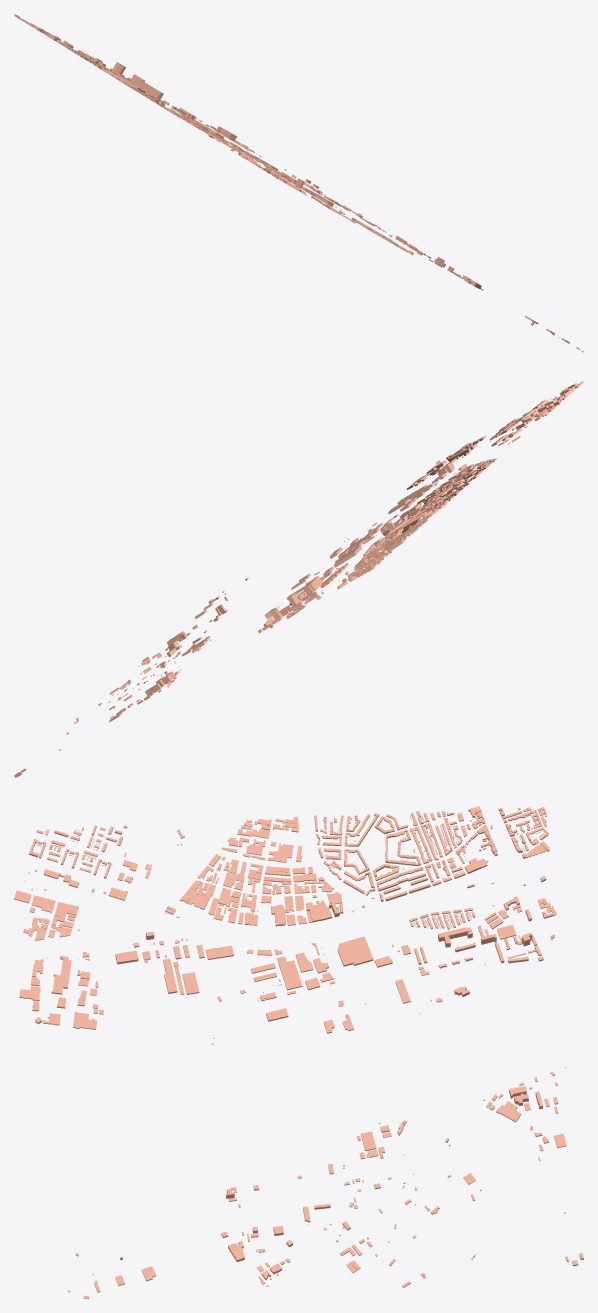
The picture shows the model from 3 angles, top to bottom: view 1: azimuth 30°, elevation 25°; view 2: azimuth 150°, elevation 25°; view 3: azimuth 270°, elevation 25°; orthographic projection. The views are drawn at different scales.
Bounding box in the file's own units: 2080 × 1514 × 2590.
